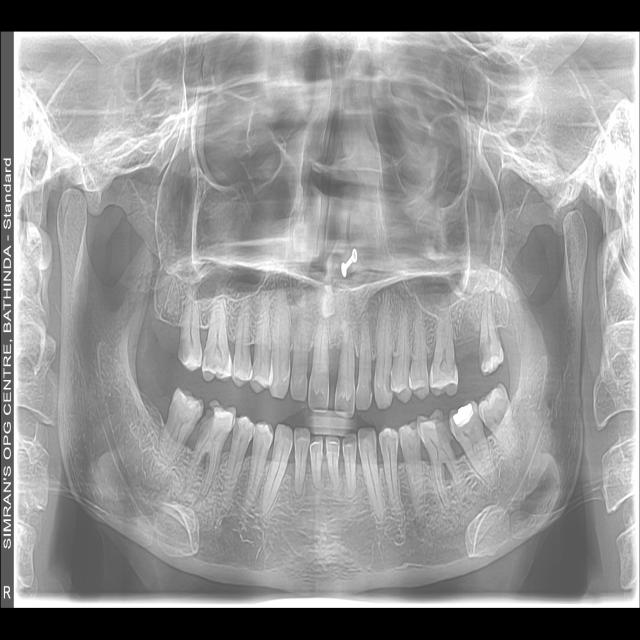Caries: (198, 403, 216, 443), (434, 411, 451, 446), (479, 343, 492, 370), (178, 333, 189, 363), (233, 419, 241, 441), (385, 372, 393, 393)
Filling: (452, 402, 474, 427)
Mandibular Canal: (76, 343, 221, 545), (422, 356, 569, 548)
Missing teeth: (457, 342, 481, 391)
